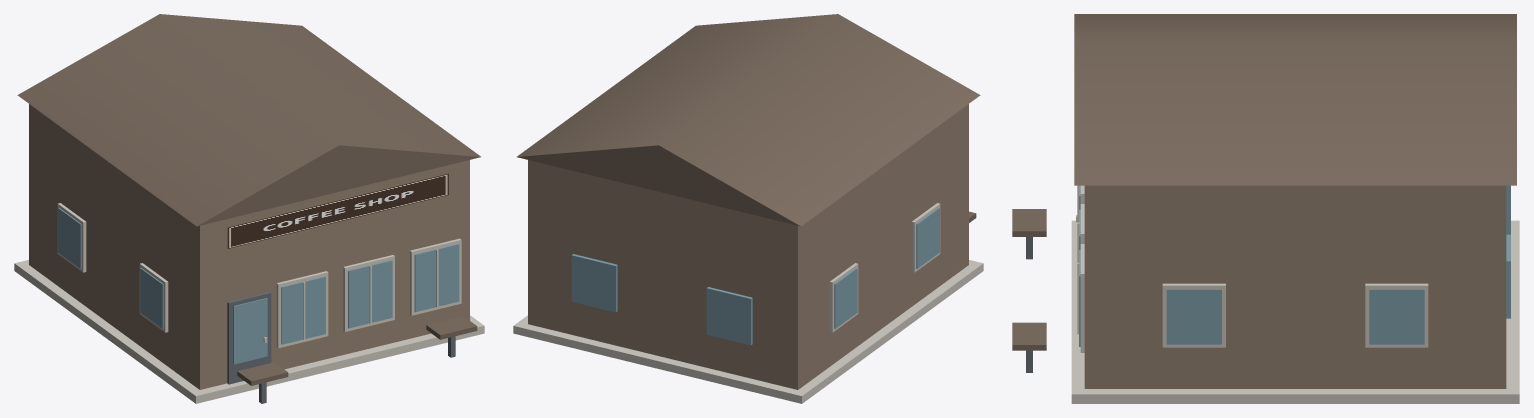
Rendered from coffee_shop.glb.
The picture shows the model from 3 angles, left to right: view 1: azimuth 30°, elevation 25°; view 2: azimuth 150°, elevation 25°; view 3: azimuth 270°, elevation 25°; orthographic projection. The views are drawn at different scales.
Parts seen in each view (by area): view 1: world; view 2: world; view 3: world.
Boxes of the visible parts, x1,y1,x2,y2 form: world: [14, 14, 484, 403]; world: [513, 14, 983, 403]; world: [1012, 14, 1519, 403].
Size of the model in its own units: 7.8 by 5.75 by 9.62.
2 materials, 1 textured.
